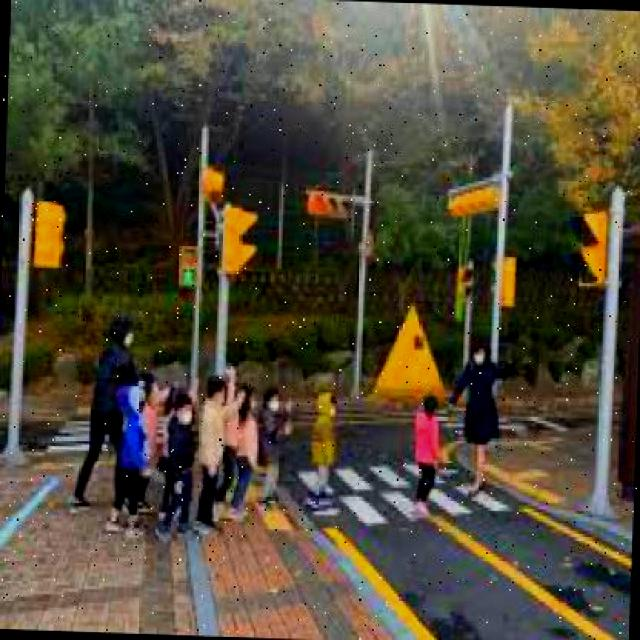Person: (73, 316, 139, 514), (449, 342, 520, 494), (104, 386, 148, 540), (194, 366, 234, 532), (157, 391, 200, 542), (256, 385, 298, 509), (134, 373, 166, 516), (228, 387, 262, 519), (408, 393, 443, 515), (305, 389, 341, 506)
